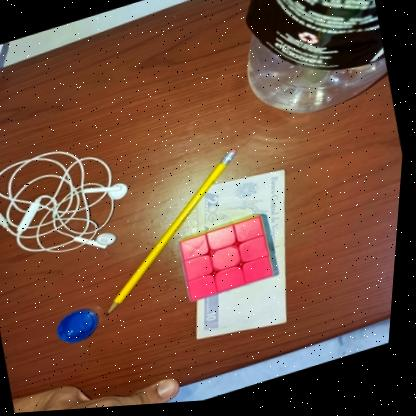vef_back: (165, 165, 325, 356)
